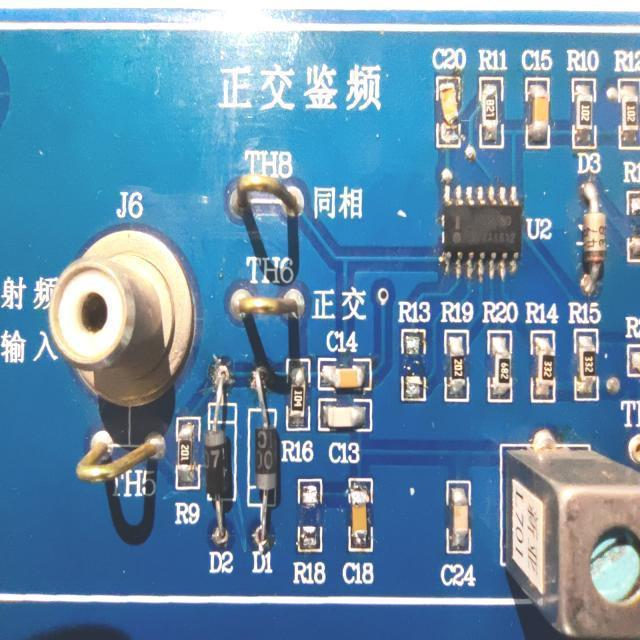Missing component: (293, 478, 327, 586), (398, 300, 432, 404), (622, 158, 640, 265)
